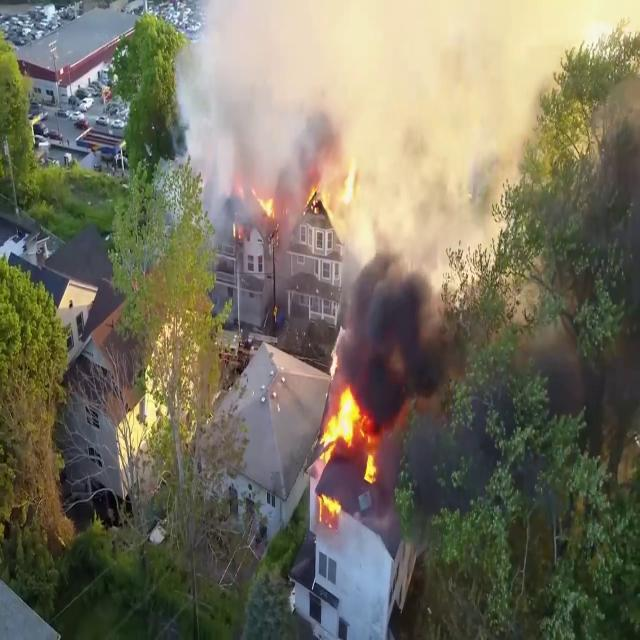Fire: (314, 375, 379, 523)
Smoke: (172, 0, 398, 238), (340, 195, 466, 428)
